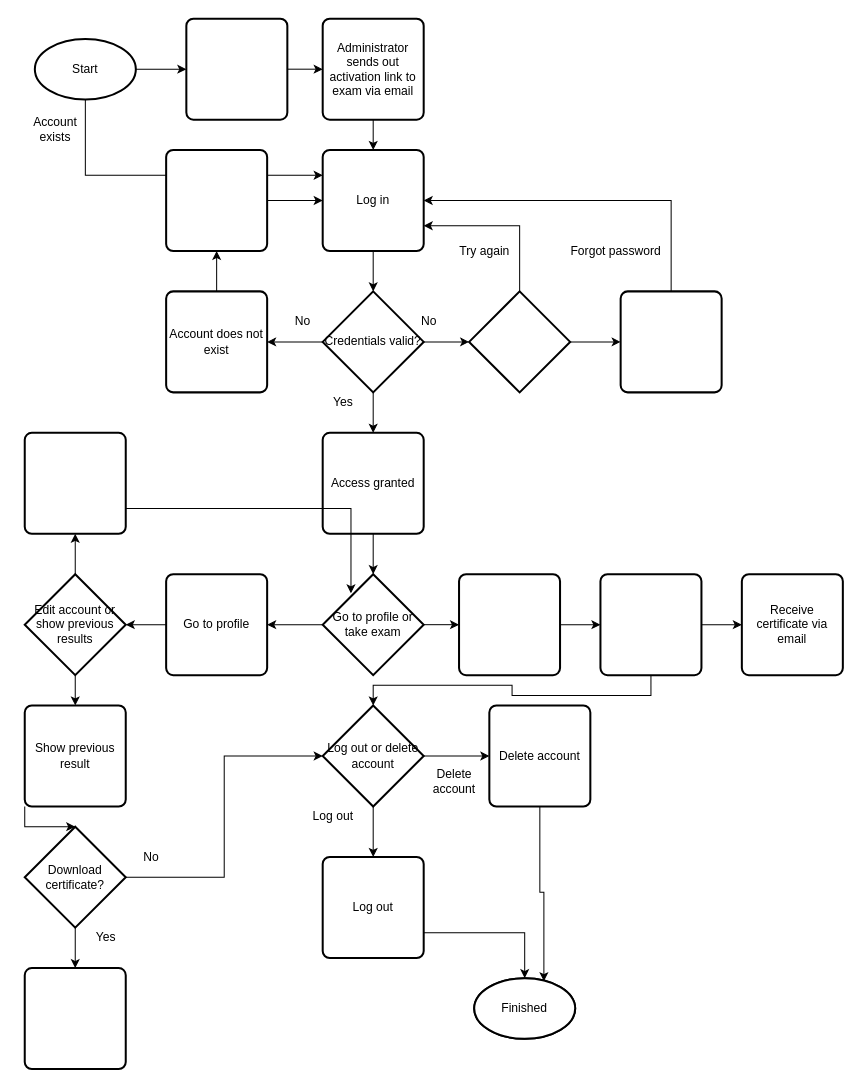
Some shapes in this 862 by 1087 pixel diagram are drawn without their labels. Here are the shapes that lost their labels. From the top down, the box of each, then its label:
(185, 17, 288, 120): Participant completes course
(165, 148, 268, 251): Create account
(468, 290, 571, 393): Try again or forgot password
(619, 290, 722, 393): Create new password
(23, 431, 126, 534): Edit account
(458, 573, 561, 676): Take exam
(599, 573, 702, 676): Exam completed
(23, 967, 126, 1070): Certificate downloaded
